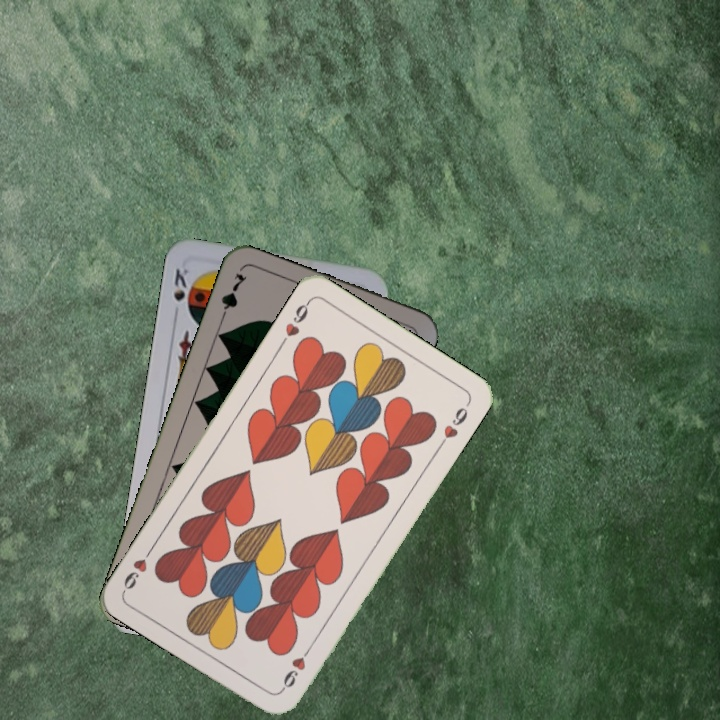G7: (216, 269, 250, 326)
H9: (276, 642, 315, 694), (276, 296, 313, 349)
SK: (169, 263, 192, 304)
